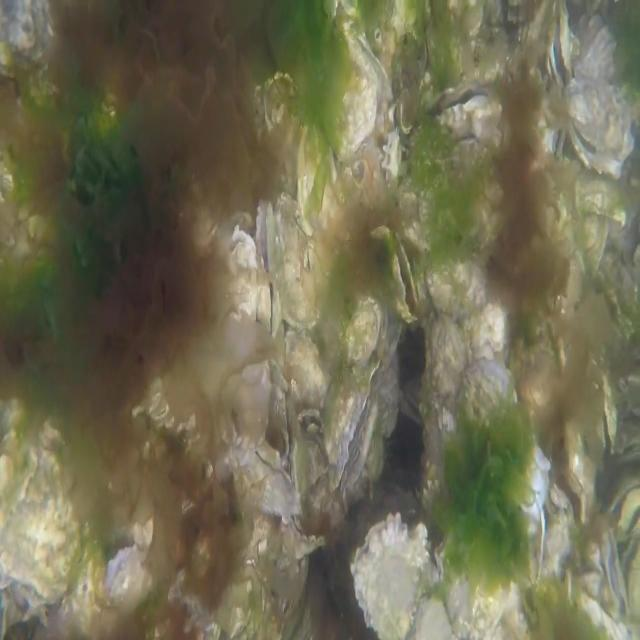Oyster-Closed: (434, 517, 529, 640), (326, 355, 383, 494), (227, 446, 303, 527), (282, 509, 328, 561)
Oyster-Indeterminate: (447, 356, 553, 513), (0, 418, 80, 602), (349, 508, 429, 640), (324, 1, 380, 151), (426, 304, 470, 468), (296, 114, 349, 239), (274, 189, 318, 332), (344, 285, 404, 368), (424, 250, 494, 314), (284, 317, 330, 413), (103, 518, 154, 600), (577, 174, 626, 223), (573, 215, 610, 278)
Oyster-Open: (563, 21, 639, 178), (423, 84, 505, 169), (228, 358, 290, 468), (544, 410, 598, 529), (255, 195, 279, 335), (226, 223, 258, 322), (390, 239, 421, 324), (601, 529, 629, 623), (604, 476, 640, 540), (548, 0, 573, 90), (596, 377, 618, 458)
